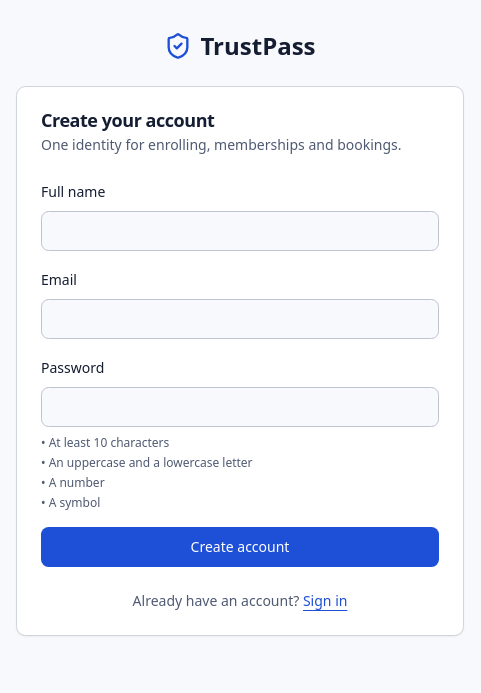
Test: SignupPage › shows validation errors returned by the server
Type "Mia Member" into the field labelled "Full name". click: (240, 231)
box: [41,211,439,251]
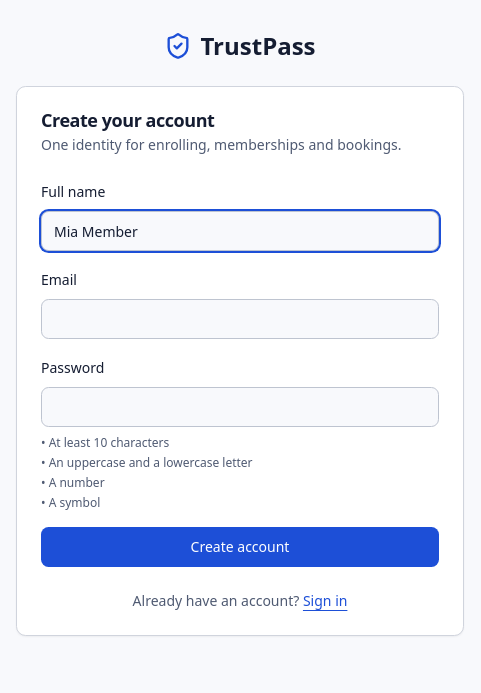
Type "mia@example.test" into the field labelled "Email". click: (240, 319)
box: [41,299,439,339]
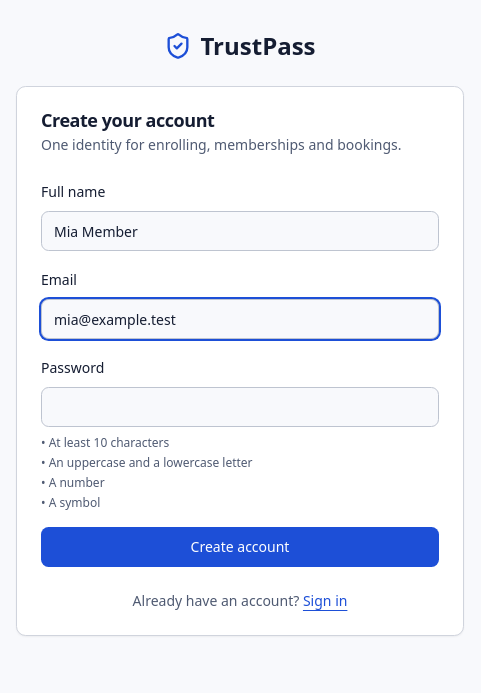
Type "Sup3r$ecret-pass" into the password field labelled "Password". click: (240, 407)
box: [41,387,439,427]
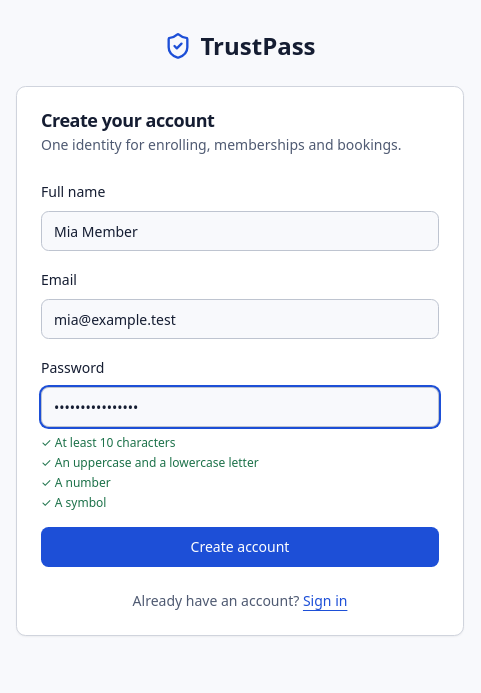
Click the button "Create account". click: (240, 547)
box: [41,527,439,567]
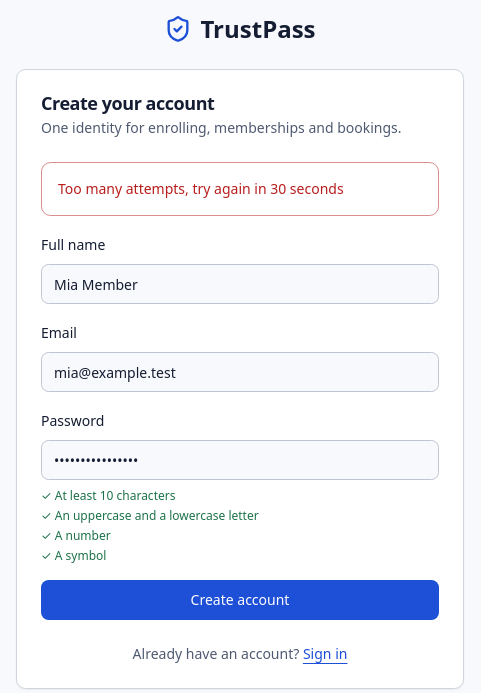
expect the message shows "Too many attempts": met, box [58,179,344,198]
